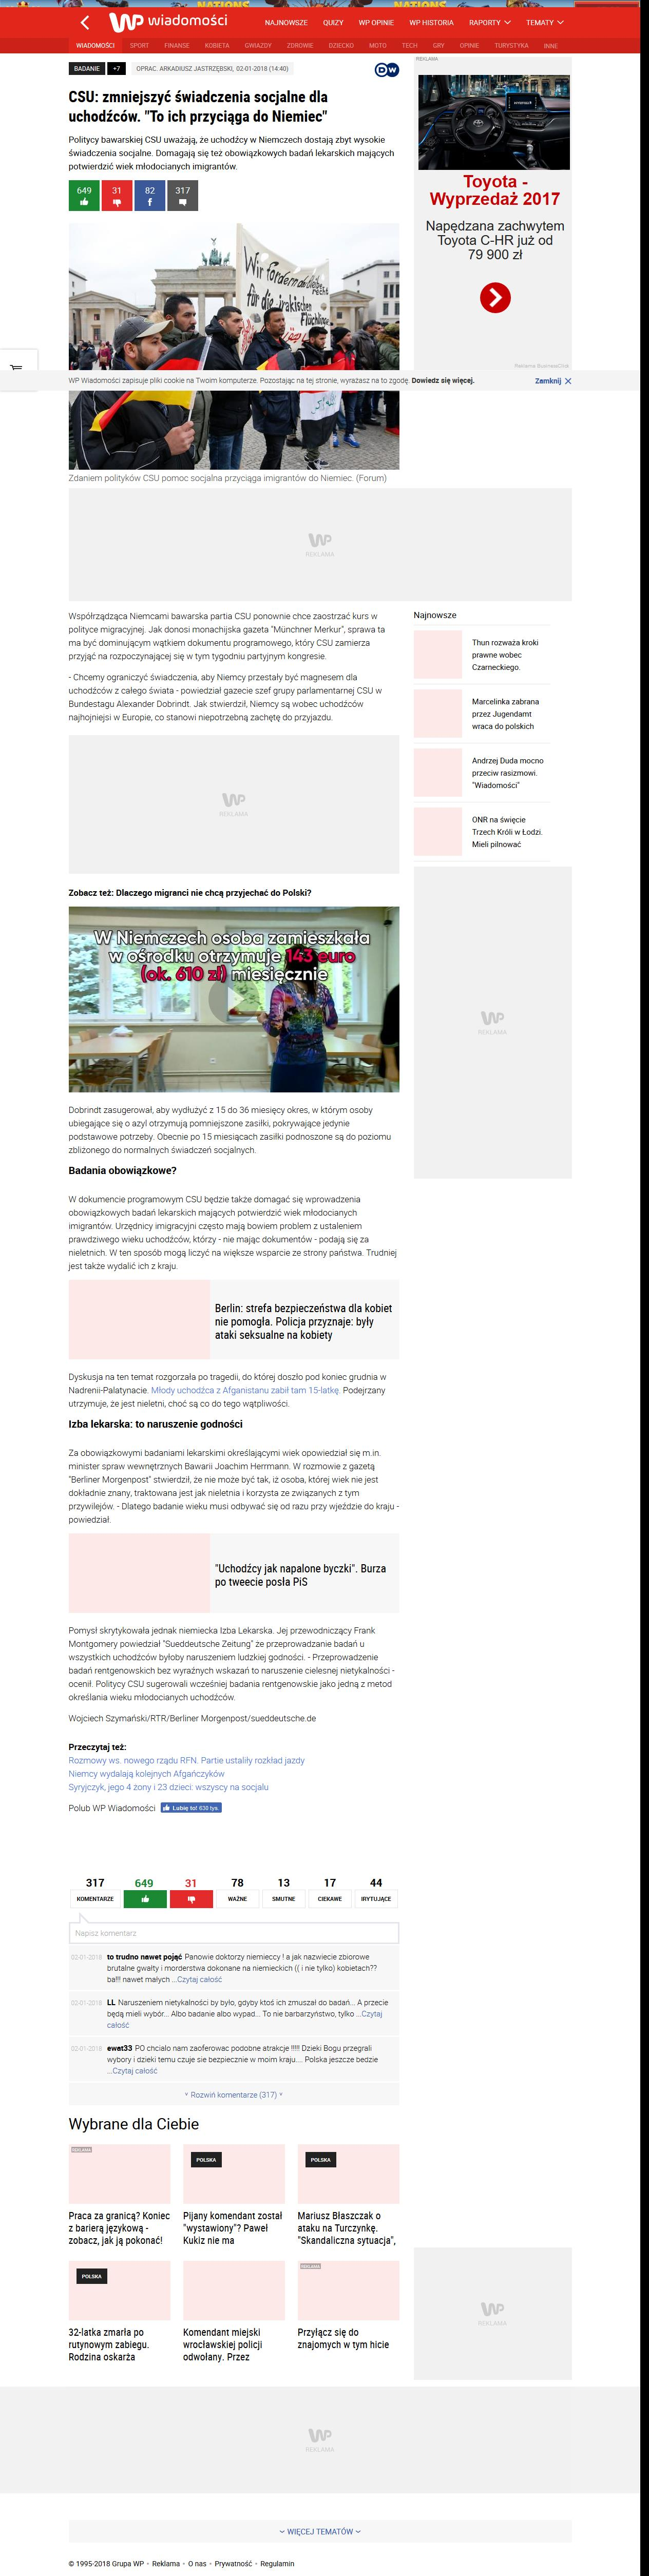title: (69, 90, 329, 125)
